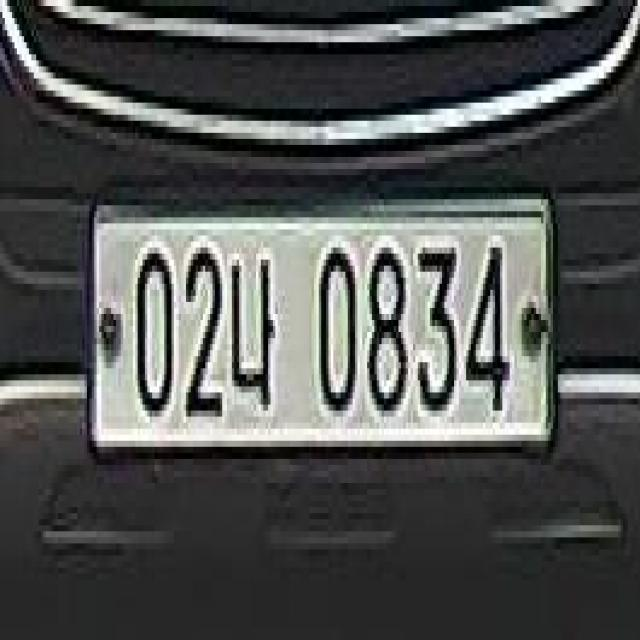illegal_plate: (90, 182, 551, 478)
